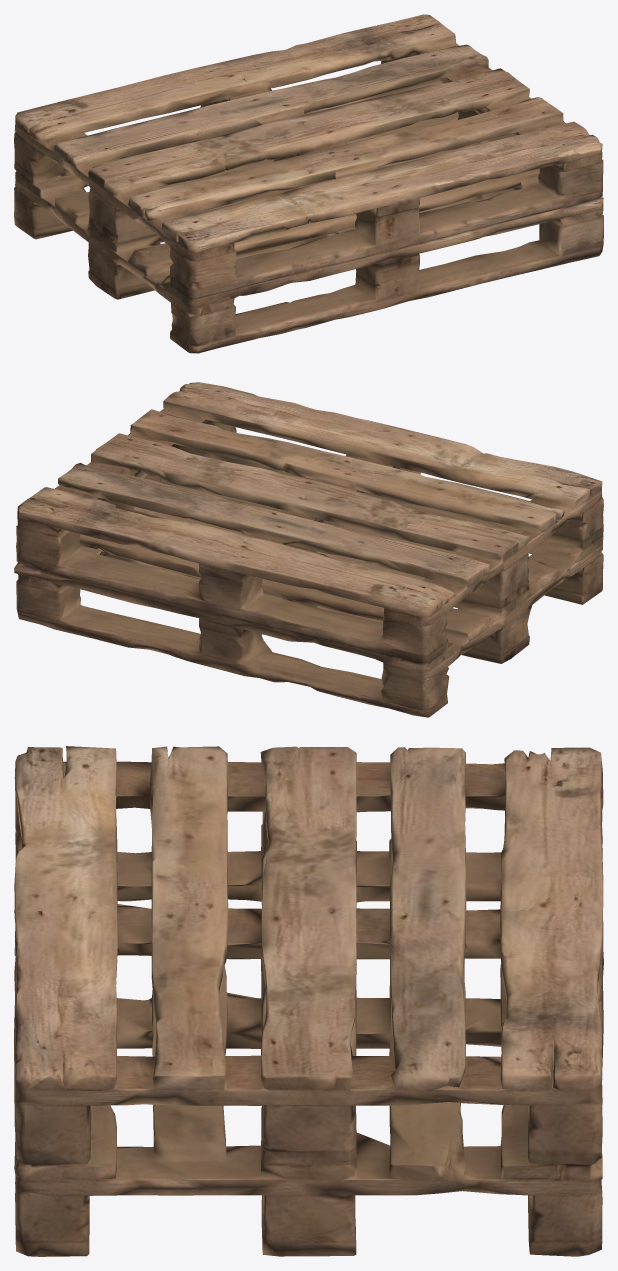
The model's file is pallet.glb.
3 renders of one model, top to bottom at view 1: azimuth 30°, elevation 25°; view 2: azimuth 150°, elevation 25°; view 3: azimuth 270°, elevation 25°, orthographic. The views are drawn at different scales.
Visible parts, largest first — view 1: tripo_node_3188ec96-cbd4-49bc-b354-e2122075bf59; view 2: tripo_node_3188ec96-cbd4-49bc-b354-e2122075bf59; view 3: tripo_node_3188ec96-cbd4-49bc-b354-e2122075bf59.
Boxes of the visible parts, x1,y1,x2,y2 form: tripo_node_3188ec96-cbd4-49bc-b354-e2122075bf59: [14, 14, 603, 353]; tripo_node_3188ec96-cbd4-49bc-b354-e2122075bf59: [14, 382, 603, 717]; tripo_node_3188ec96-cbd4-49bc-b354-e2122075bf59: [14, 746, 603, 1256].
Bounding box in the file's own units: 1 × 0.2616 × 0.7556.
Materials: 1 (1 with a texture image).
